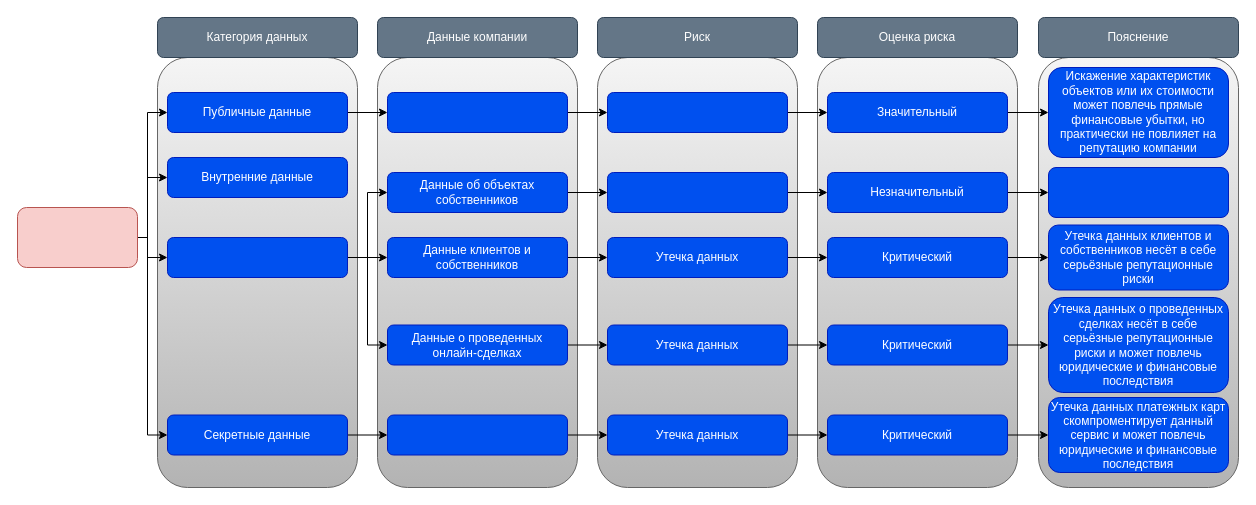
Image size: 1256x505. Some labels were removed from this diagram. The centre of each missing label's shape, as x and y in pixels:
"Безопасность данных" goes at point 77,237.
"Данные об объектах недвижимости на продажу" goes at point 477,112.
"Данные платежных карт собственников" goes at point 477,434.
"Искажение данных" goes at point 697,112.
"Конфиденциальные данные" goes at point 257,257.
"Потеря данных" goes at point 697,192.
"Потерянные данные об объектах легко можно восстановить." goes at point 1138,192.
